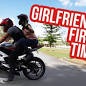helmets: (0, 16, 15, 32), (17, 13, 30, 25)
